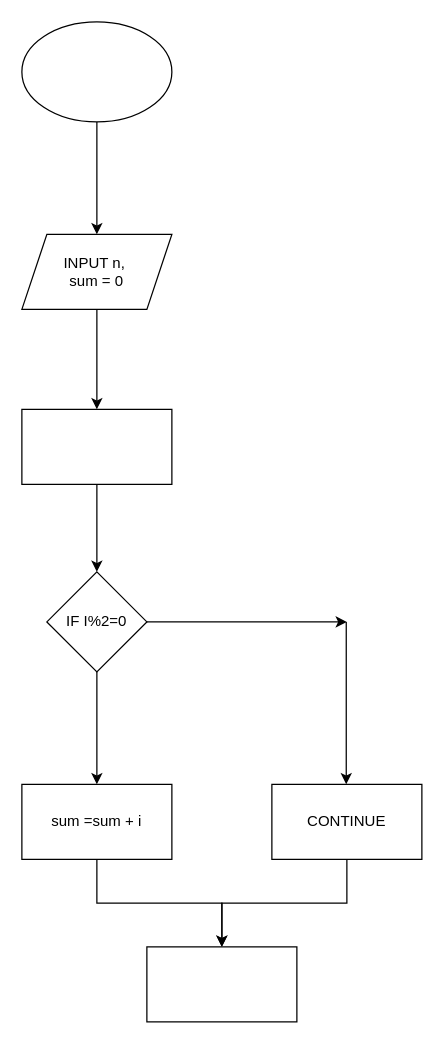
This 444x1044 diagram has some shape labels left out. Each missing label, with the centre of its shape:
"FOR i from 1 to n" belongs at [96,446].
"START" belongs at [96,71].
